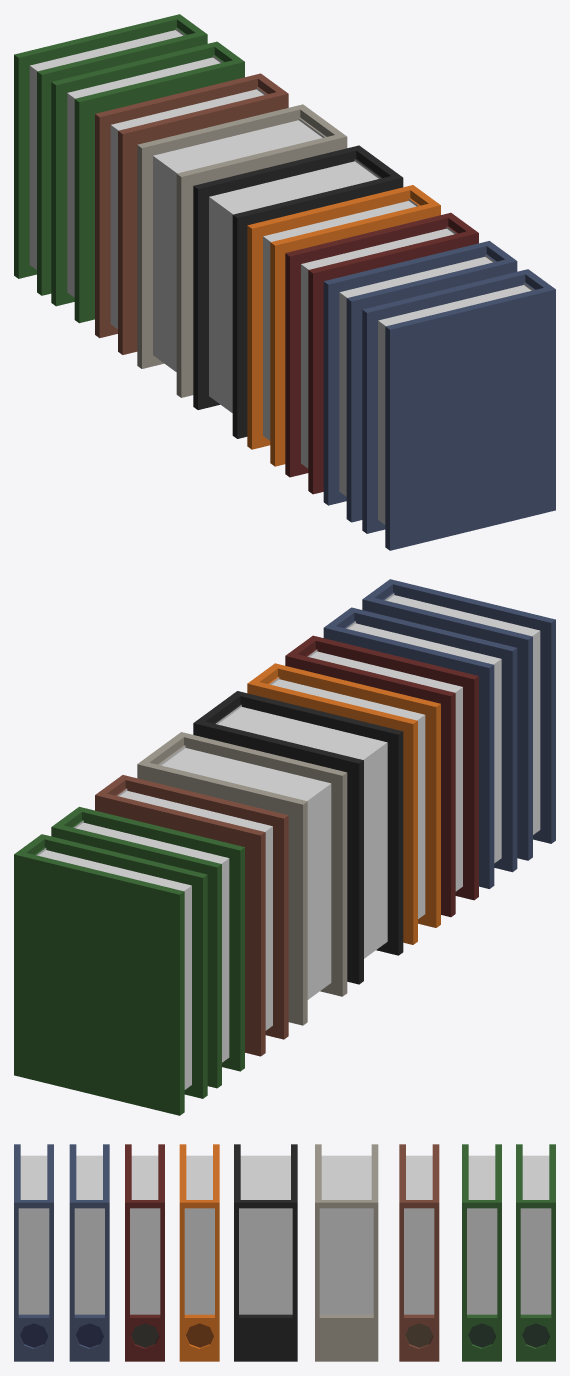
The model's file is SM_Binder_01.glb.
3 views of the same model, one above another, from view 1: azimuth 30°, elevation 25°; view 2: azimuth 150°, elevation 25°; view 3: azimuth 270°, elevation 25° (orthographic). The views are drawn at different scales.
Visible parts, largest first — view 1: SM_Binder_01; view 2: SM_Binder_01; view 3: SM_Binder_01.
Part boxes in pixels (x1,y1,x2,y2): SM_Binder_01: (14, 14, 555, 550); SM_Binder_01: (14, 579, 555, 1115); SM_Binder_01: (14, 1144, 555, 1361).
Bounding box in the file's own units: 0.2121 × 0.27 × 0.8329.
1 material, 1 textured.
